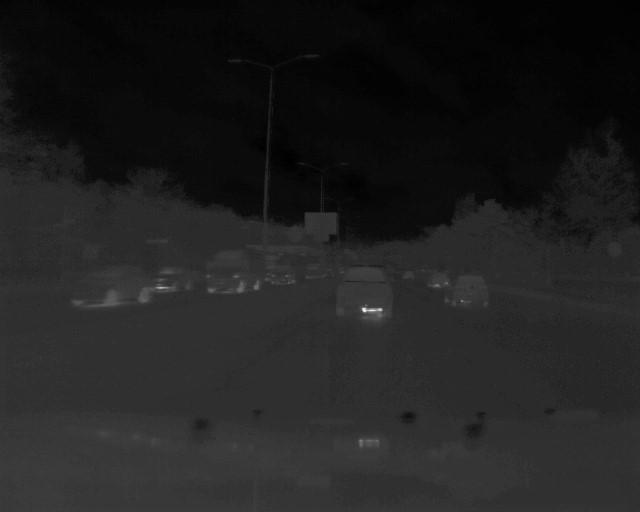car: (73, 265, 153, 311), (337, 265, 396, 321), (206, 248, 266, 293), (443, 274, 488, 311), (158, 265, 192, 296)
